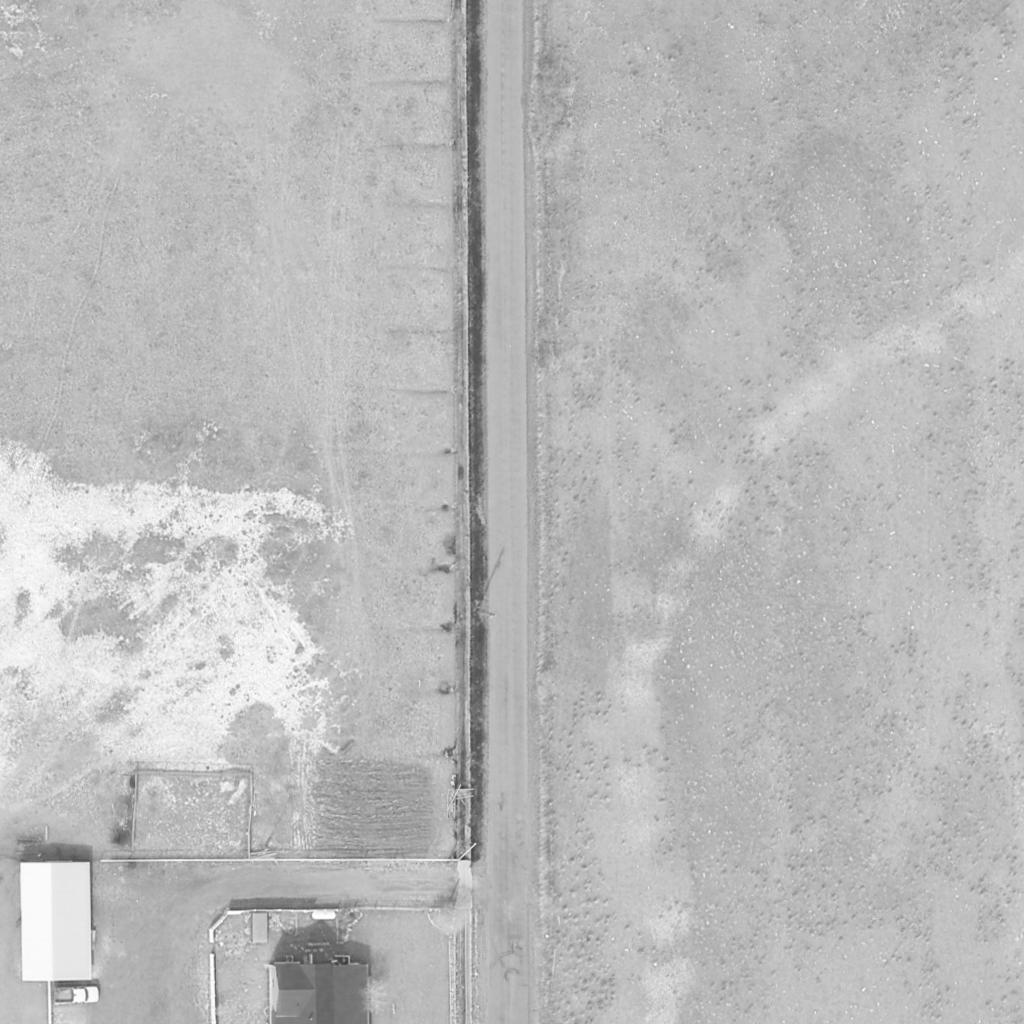vehicle: (54, 985, 100, 1007)
